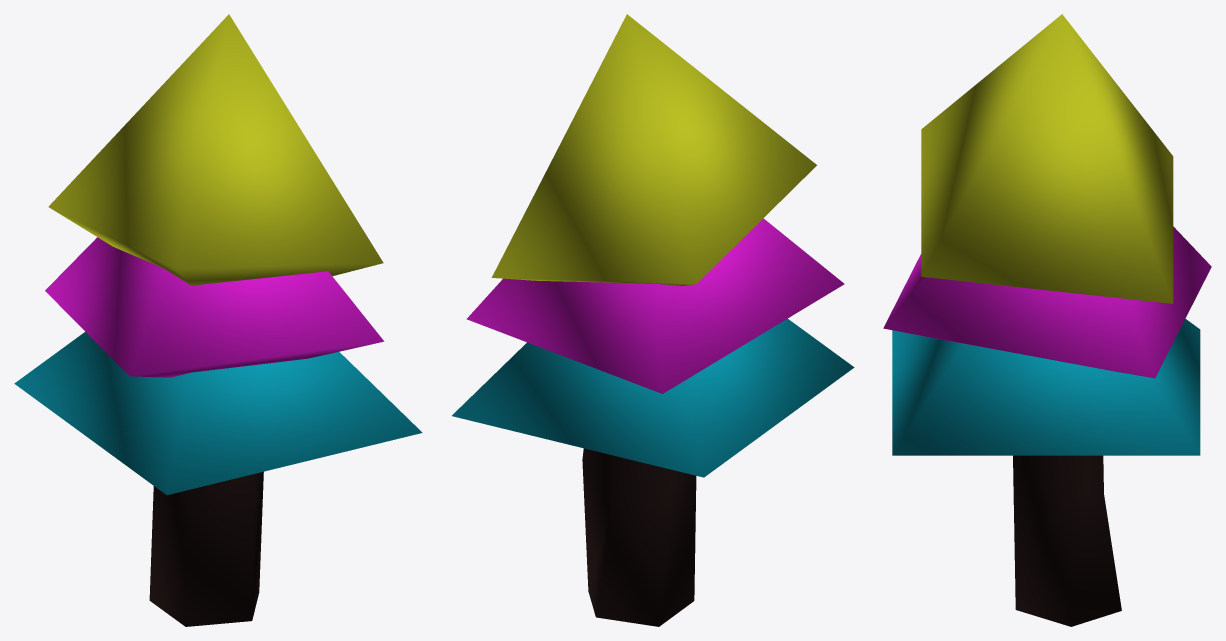
Rendered from tree1.obj.
3 renders of one model, left to right at view 1: azimuth 30°, elevation 25°; view 2: azimuth 150°, elevation 25°; view 3: azimuth 270°, elevation 25°, orthographic. The views are drawn at different scales.
Visible parts, largest first — view 1: Cylinder006; view 2: Cylinder006; view 3: Cylinder006.
Part boxes in pixels (left/top/right/bottom): Cylinder006: left=14, top=14, right=422, bottom=626; Cylinder006: left=452, top=14, right=854, bottom=626; Cylinder006: left=883, top=14, right=1211, bottom=626.
Size of the model in its own units: 39.64 by 80.75 by 40.36.
